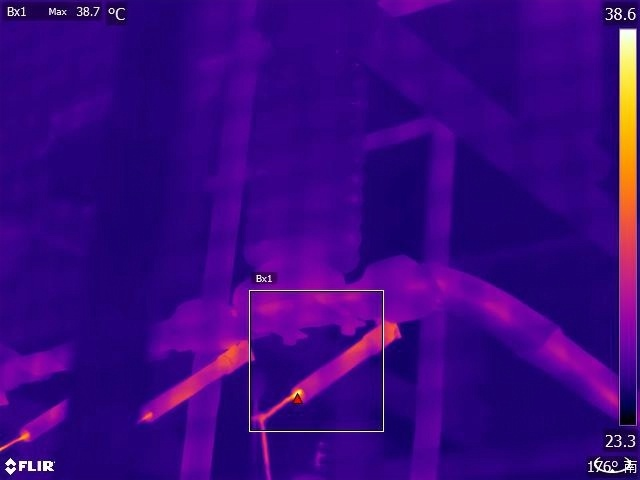post insulator: (238, 48, 370, 278)
